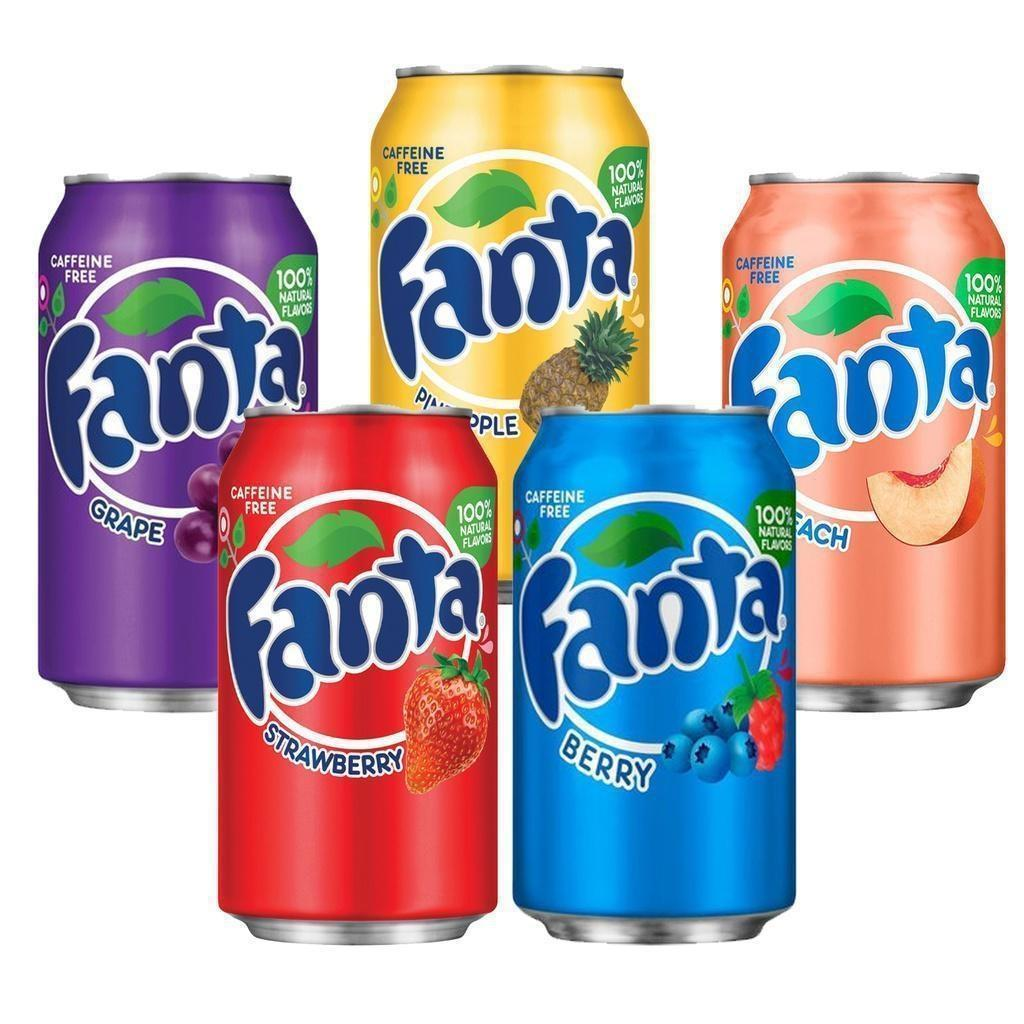tin can: (719, 160, 1008, 715), (213, 402, 504, 952), (509, 399, 799, 947), (35, 161, 318, 715), (365, 56, 653, 409)
